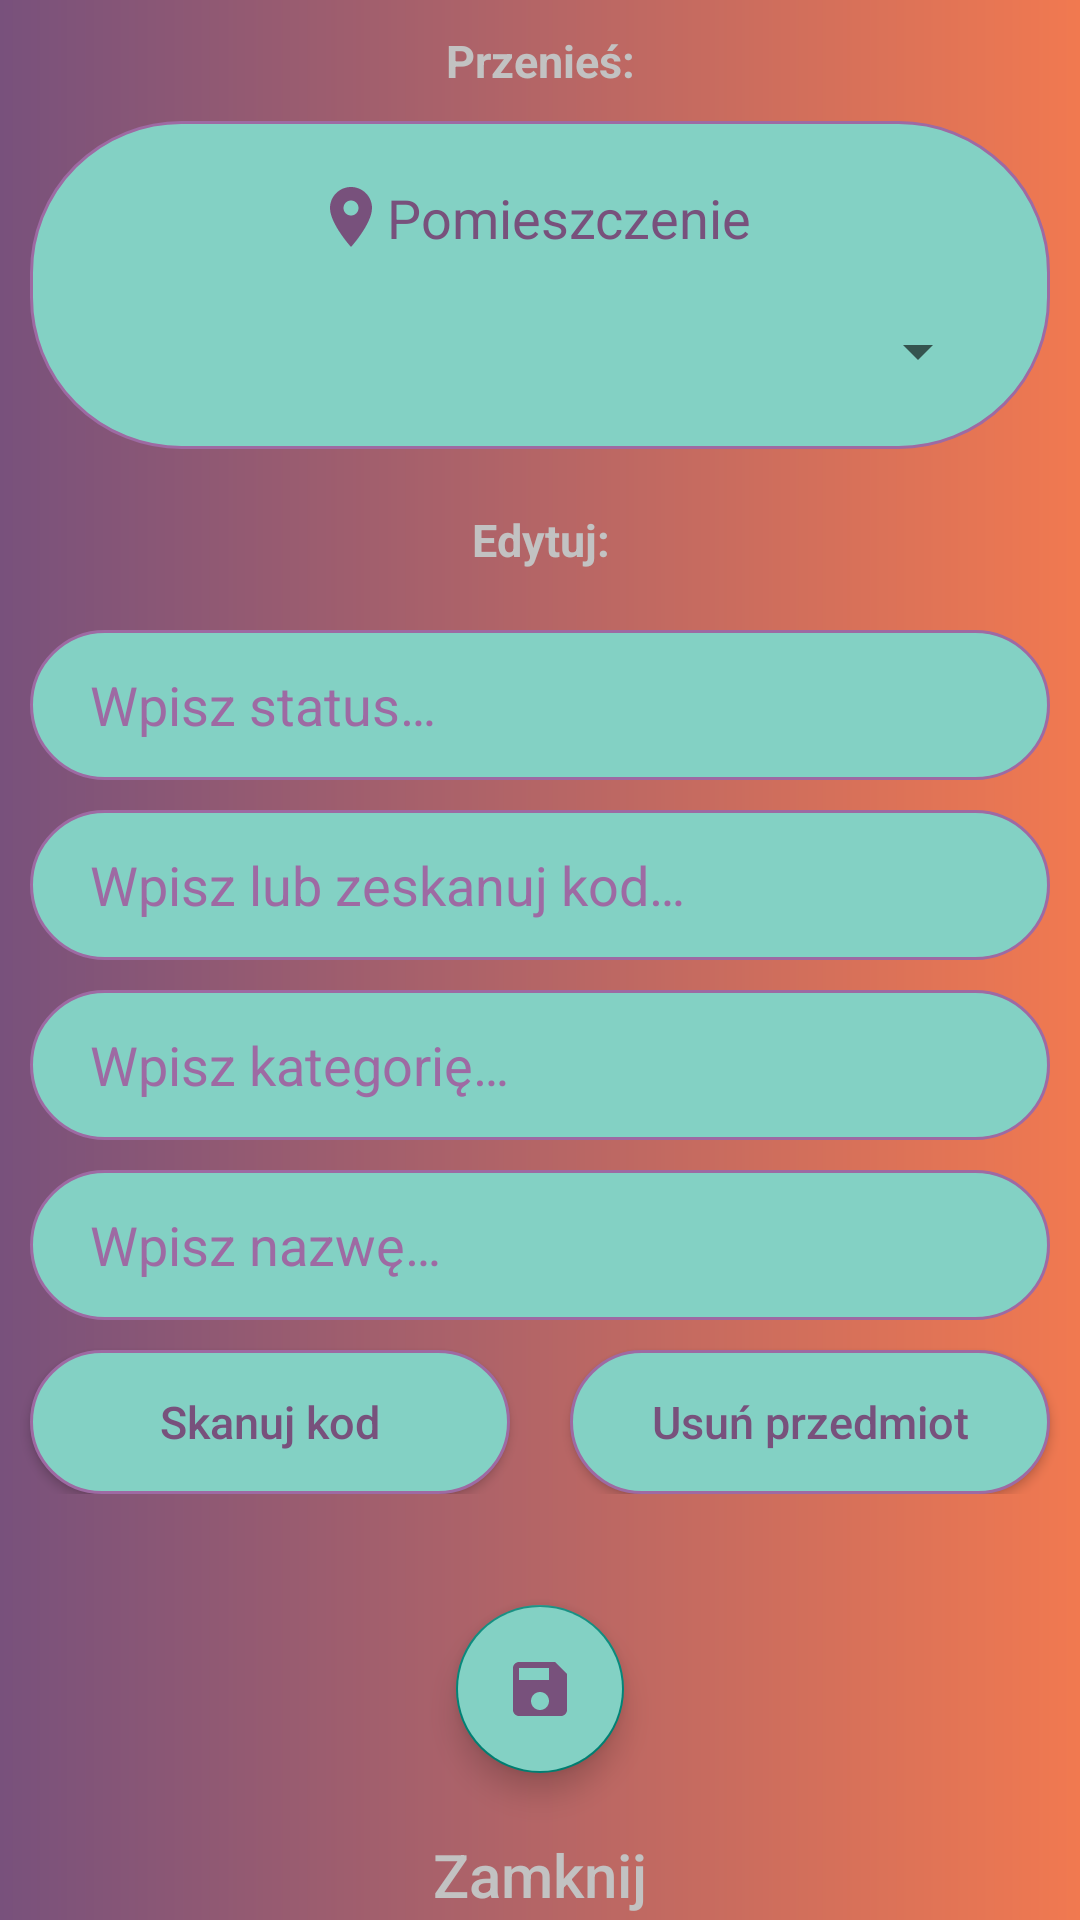

Where icons sit on this 1080x1920 app screen, as [left=x1, top=y1, right=x2, bottom=y2]:
save: [left=456, top=1605, right=624, bottom=1773]
